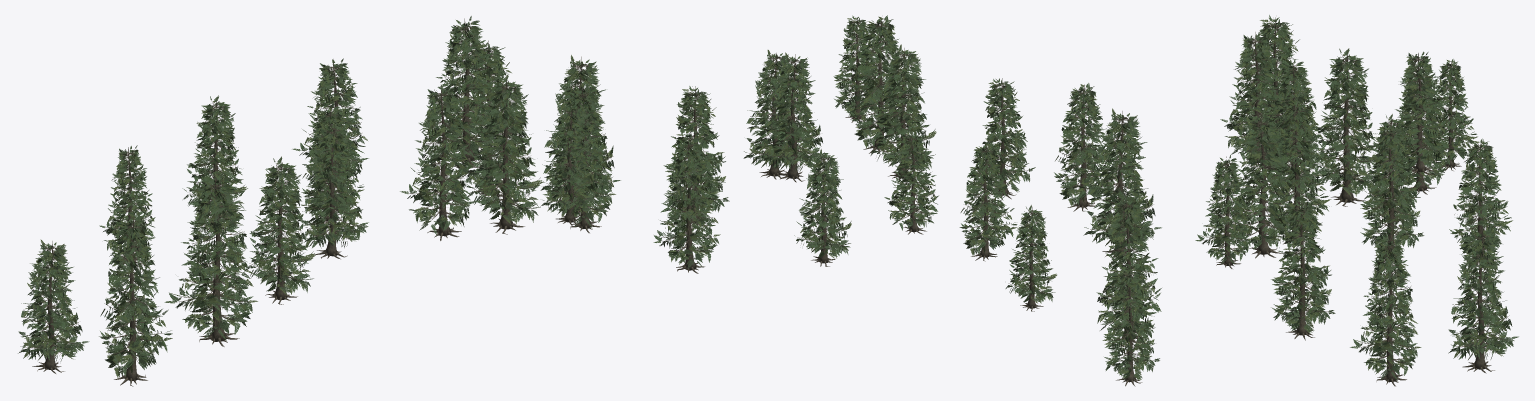
The model's file is EXIT_BackTrees.fbx.
3 renders of one model, left to right at view 1: azimuth 30°, elevation 25°; view 2: azimuth 150°, elevation 25°; view 3: azimuth 270°, elevation 25°, orthographic. The views are drawn at different scales.
Visible parts, largest first — view 1: EXIT_BackTrees; view 2: EXIT_BackTrees; view 3: EXIT_BackTrees.
Part boxes in pixels (x1,y1,x2,y2): EXIT_BackTrees: (18,16,620,386); EXIT_BackTrees: (653,15,1161,386); EXIT_BackTrees: (1195,15,1518,386).
Bounding box in the file's own units: 42.18 × 18.22 × 22.12.
